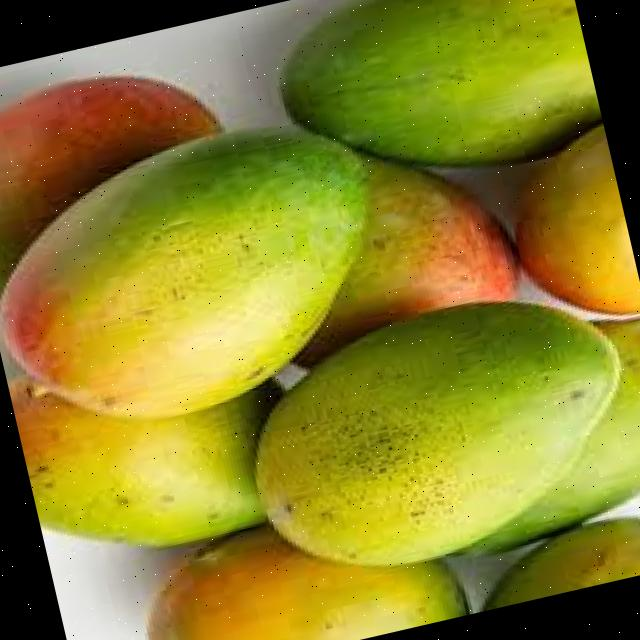mango: (255, 296, 622, 566)
